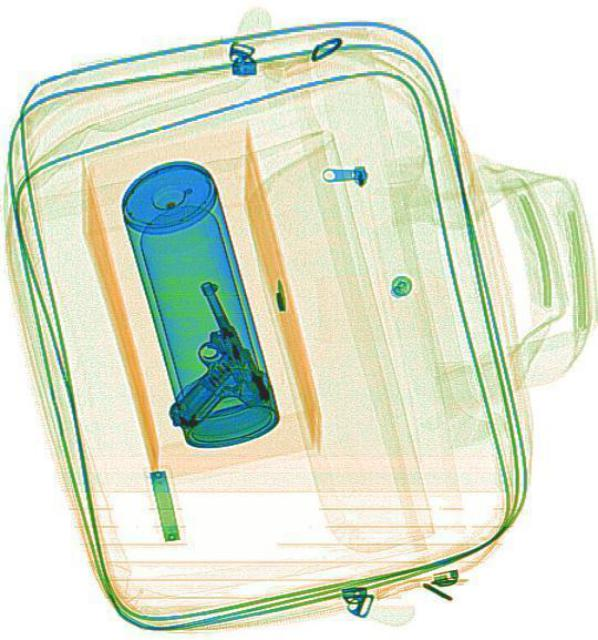Gun: (119, 276, 274, 442)
